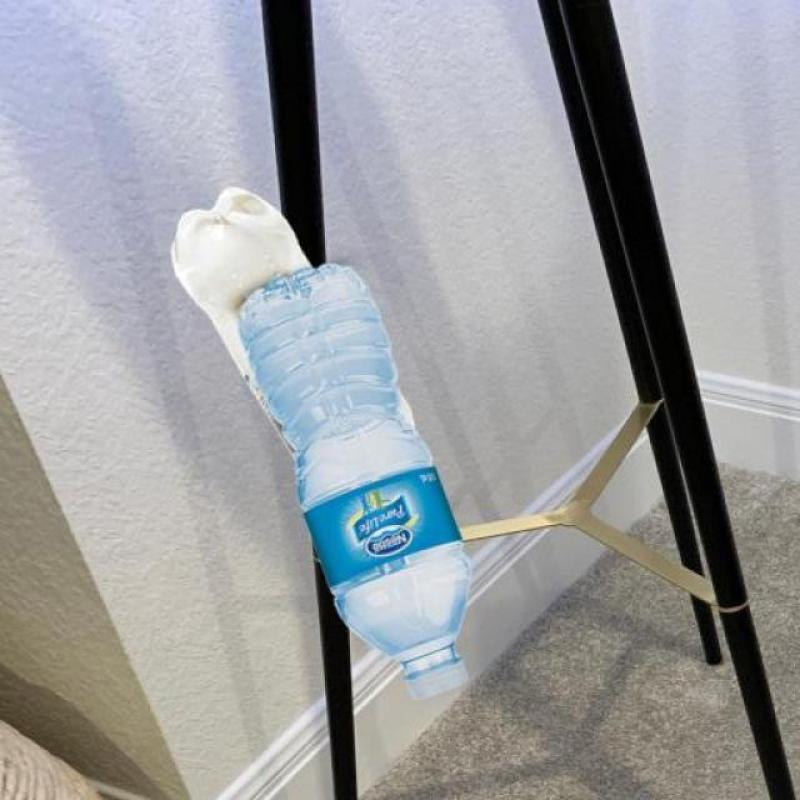botella: (239, 263, 475, 701)
